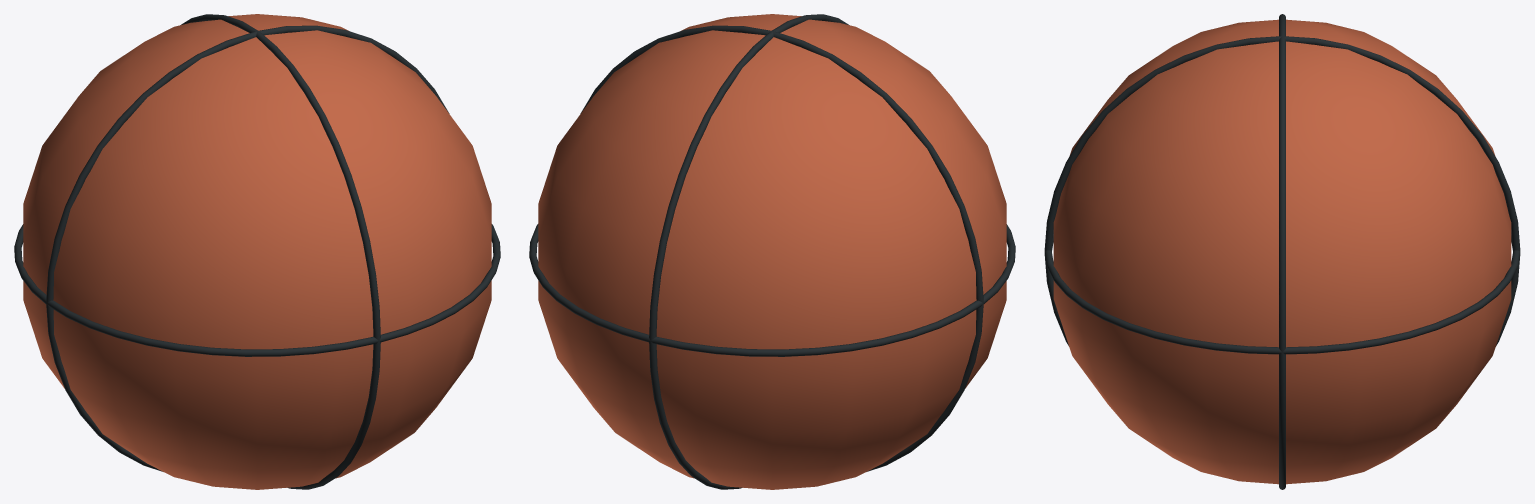
File: basketball-3b12c1f1cd97.glb
3 views of the same model, side by side, from view 1: azimuth 30°, elevation 25°; view 2: azimuth 150°, elevation 25°; view 3: azimuth 270°, elevation 25° (orthographic). The views are drawn at different scales.
Parts seen in each view (by area): view 1: surface_terracotta, surface_ink; view 2: surface_terracotta, surface_ink; view 3: surface_terracotta, surface_ink.
Boxes of the visible parts, x1,y1,x2,y2 form: surface_terracotta: [23, 14, 491, 489]; surface_ink: [14, 14, 500, 489]; surface_terracotta: [538, 14, 1006, 489]; surface_ink: [529, 14, 1015, 489]; surface_terracotta: [1053, 19, 1511, 484]; surface_ink: [1044, 14, 1520, 489].
Size of the model in its own units: 0.2434 by 0.2434 by 0.2434.
